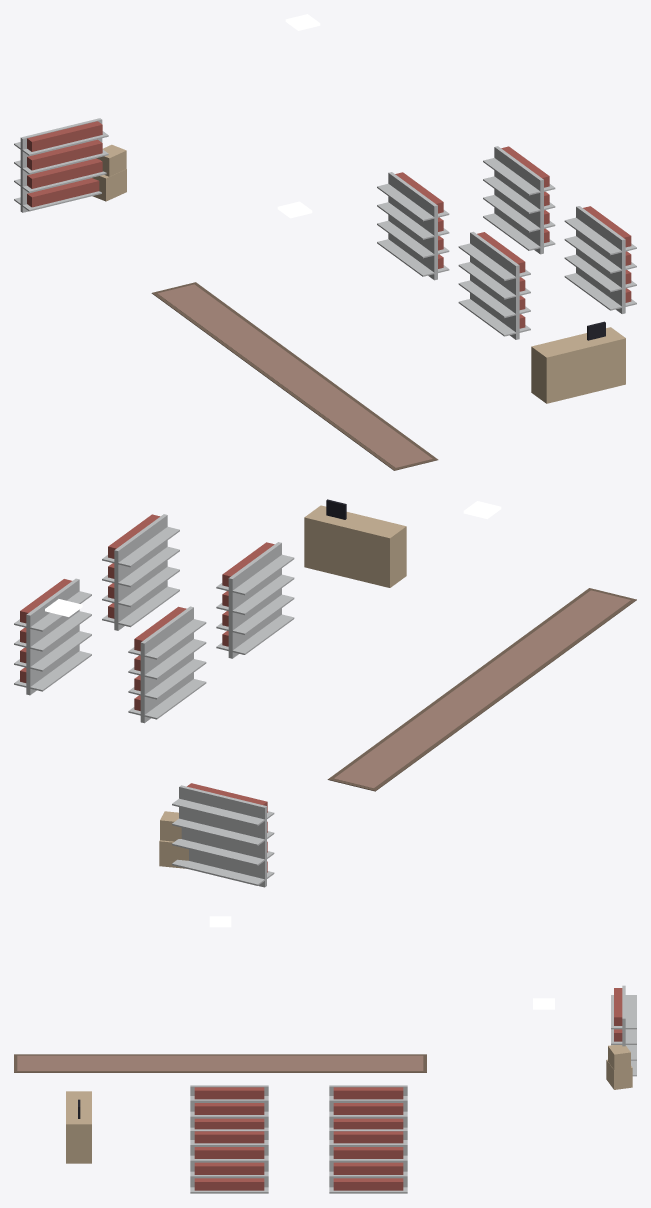
Rendered from fine-s0.glb.
The picture shows the model from 3 angles, top to bottom: view 1: azimuth 30°, elevation 25°; view 2: azimuth 150°, elevation 25°; view 3: azimuth 270°, elevation 25°; orthographic projection. The views are drawn at different scales.
Visible parts, largest first — view 1: soft-s0, shelving.000, shop-counter.000, shelf.001, shelf.002, shelf.003, shelf.000, cardboard-box.000; view 2: soft-s0, shelving.000, shop-counter.000, shelf.000, shelf.001, shelf.003, shelf.002, cardboard-box.000; view 3: soft-s0, shelf.002, shelf.003, shelf.000, shelf.001, shop-counter.000, shelving.000, cardboard-box.000.
Part boxes in pixels (x1,y1,x2,y2): soft-s0: [151, 282, 438, 470]; shelving.000: [14, 118, 108, 212]; shop-counter.000: [531, 321, 625, 403]; shelf.001: [458, 231, 530, 339]; shelf.002: [483, 146, 555, 254]; shelf.003: [564, 206, 636, 313]; shelf.000: [377, 172, 449, 280]; cardboard-box.000: [92, 144, 126, 201]; soft-s0: [327, 588, 636, 791]; shelving.000: [172, 783, 274, 887]; shop-counter.000: [304, 499, 406, 587]; shelf.000: [128, 606, 206, 723]; shelf.001: [216, 542, 294, 658]; shelf.003: [102, 514, 179, 630]; shelf.002: [14, 578, 91, 695]; cardboard-box.000: [159, 811, 188, 868]; soft-s0: [14, 1054, 426, 1072]; shelf.002: [329, 1129, 407, 1193]; shelf.003: [190, 1129, 268, 1193]; shelf.000: [329, 1085, 407, 1129]; shelf.001: [190, 1085, 268, 1129]; shop-counter.000: [66, 1091, 91, 1163]; shelving.000: [611, 985, 636, 1076]; cardboard-box.000: [606, 1045, 632, 1089].
Bounding box in the file's own units: 8.17 × 3.64 × 14.35.
